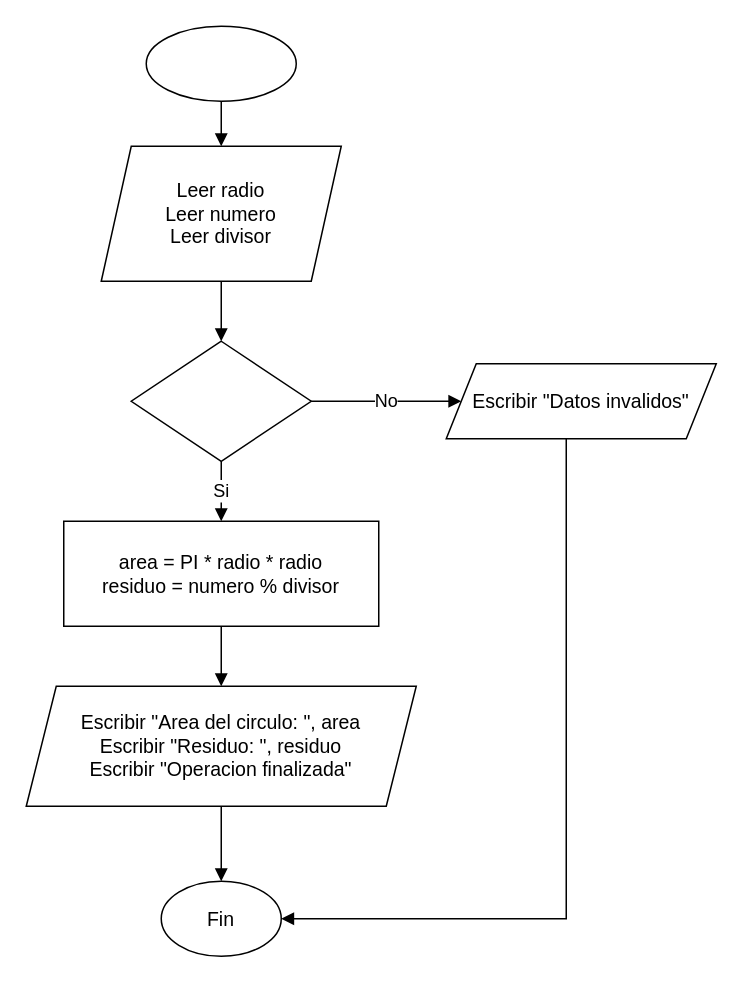
Some shapes in this 743 by 983 pixel diagram are drawn without their labels. The shapes that lost their labels are listed below. From the top down, each one's centre as x and y in pixels, then its label:
At (x=220, y=63): "Inicio".
At (x=220, y=400): "radio >= 0 y divisor != 0".
